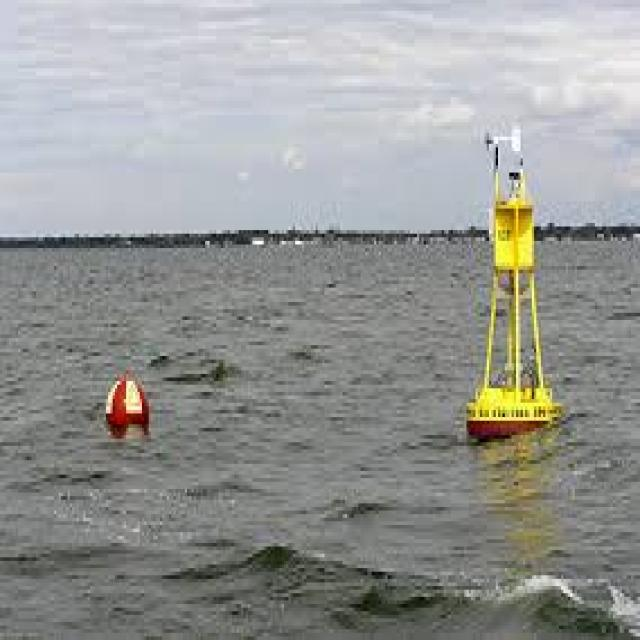buoy: (458, 109, 580, 459)
